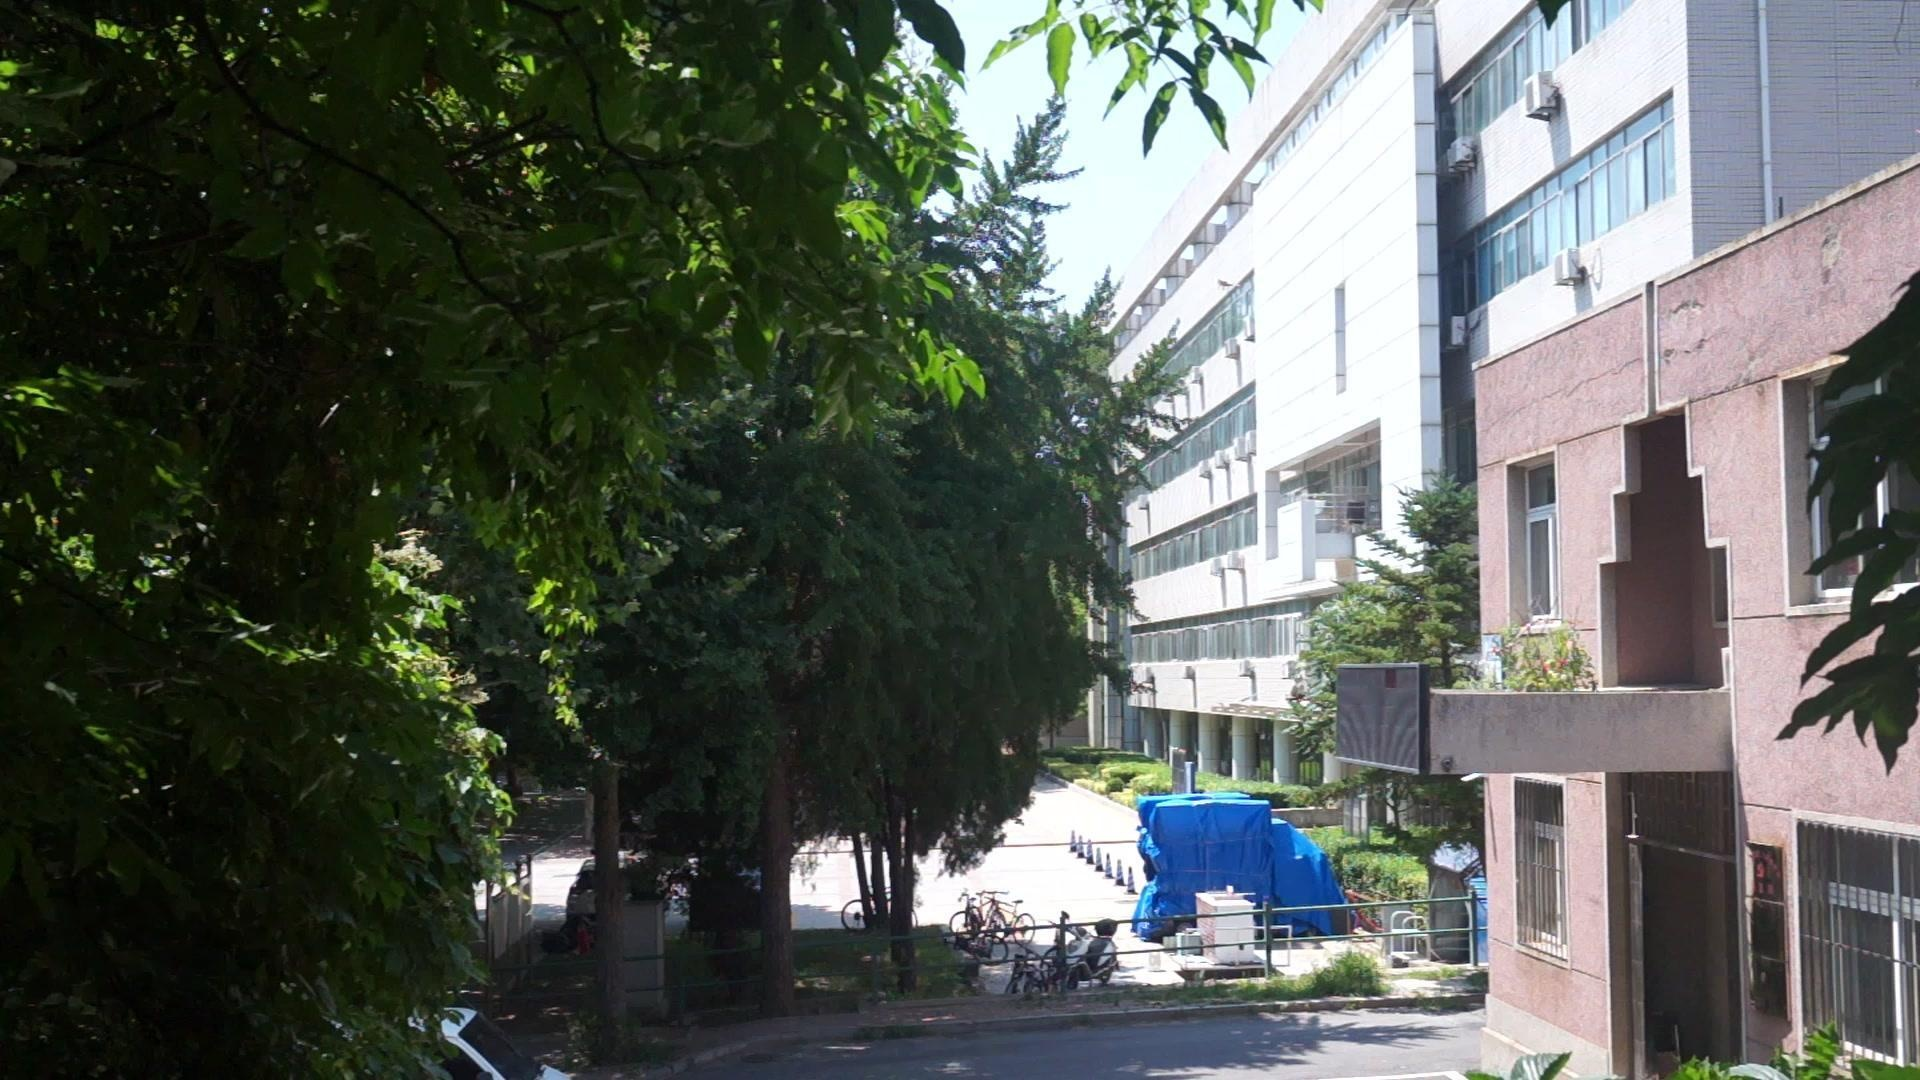UAV: (1218, 280, 1234, 291)
